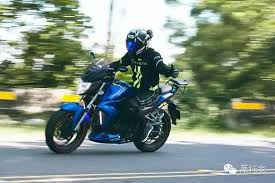helmet: (124, 29, 149, 52)
